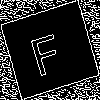F: (25, 24, 66, 77)
